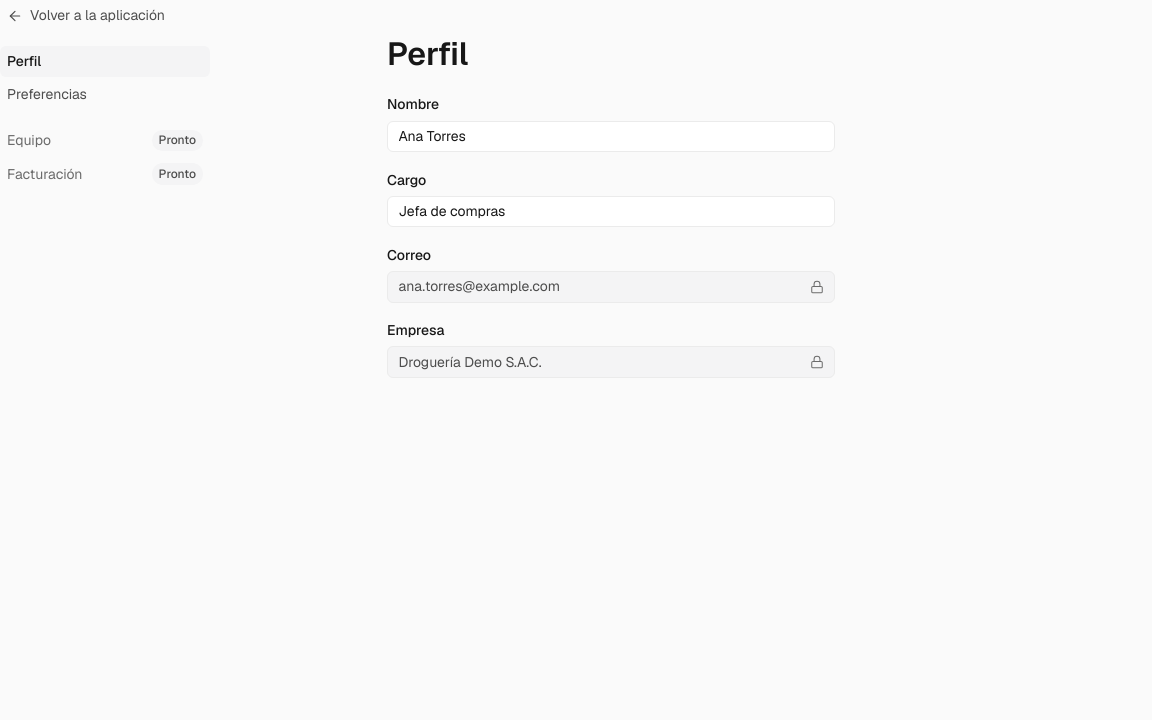
Scenario: profile (settings) › keeps the edits and reports when saving fails
This screenshot has width=1152, height=720.
Type " senior" into the field labelled "Cargo" at [611, 212], box top-left (398, 201), bottom-right (824, 222)
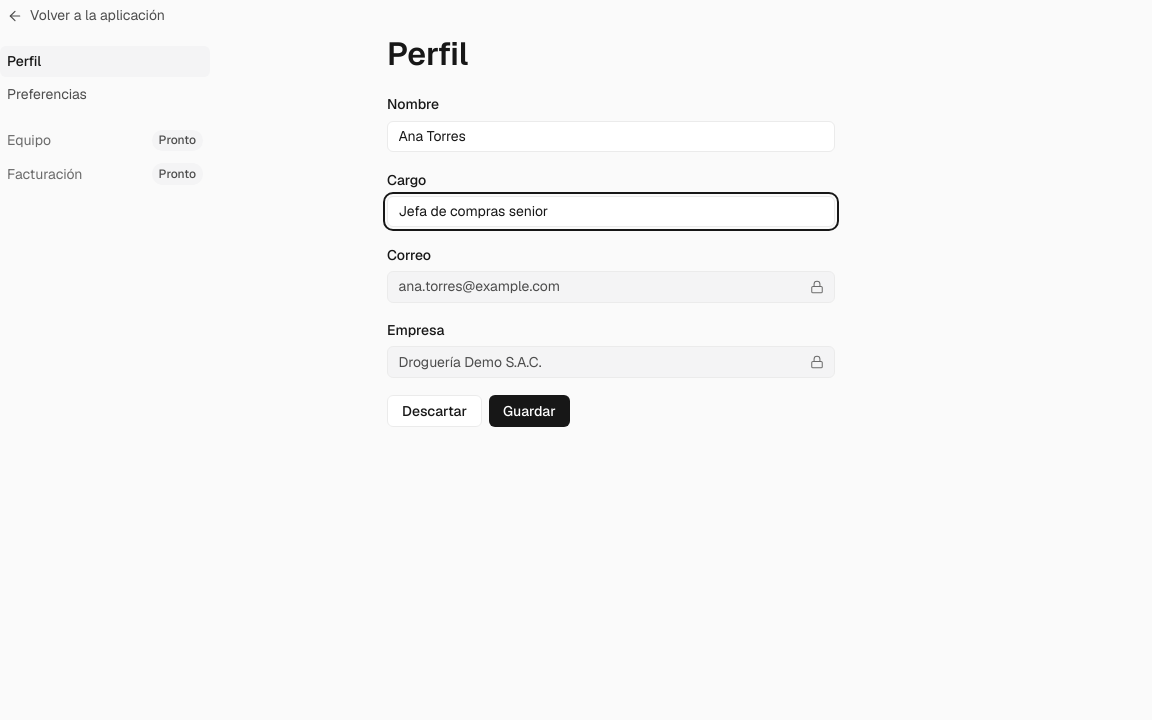
Click the button "Guardar" at [529, 411], box top-left (489, 395), bottom-right (570, 427)
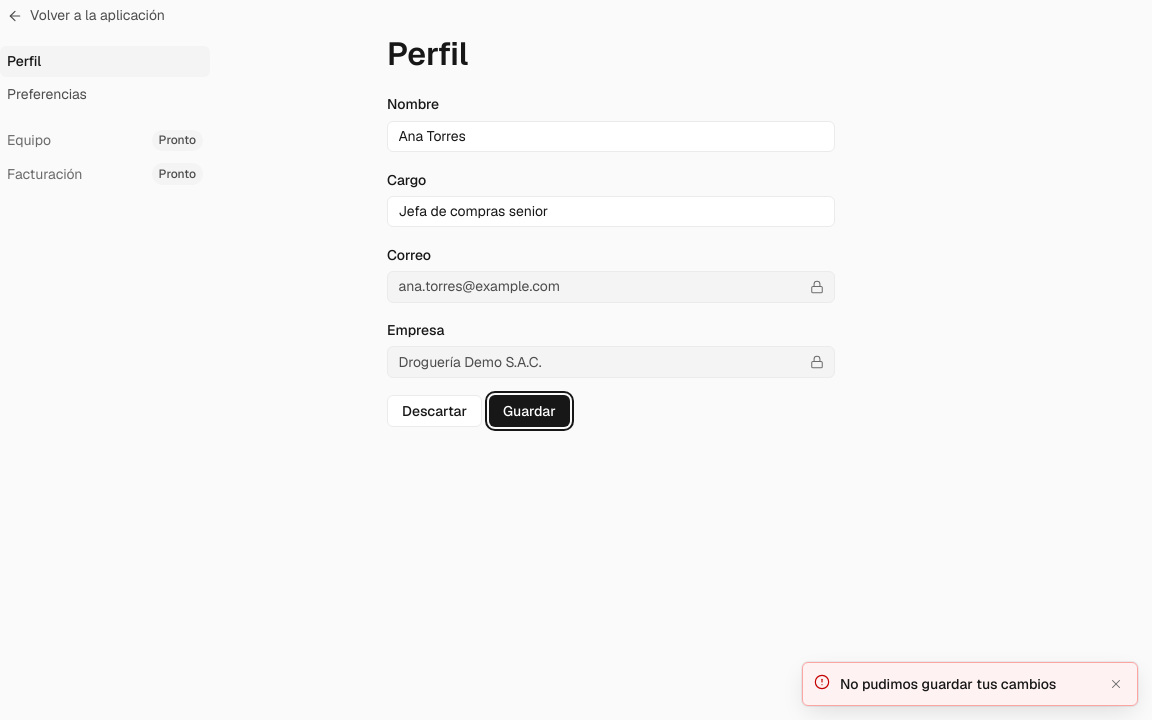
Result: the field labelled "Cargo" holds "Jefa de compras senior" at top-left (398, 201), bottom-right (824, 222)
Result: the text "No pudimos guardar tus cambios" is shown at top-left (840, 674), bottom-right (1056, 692)
